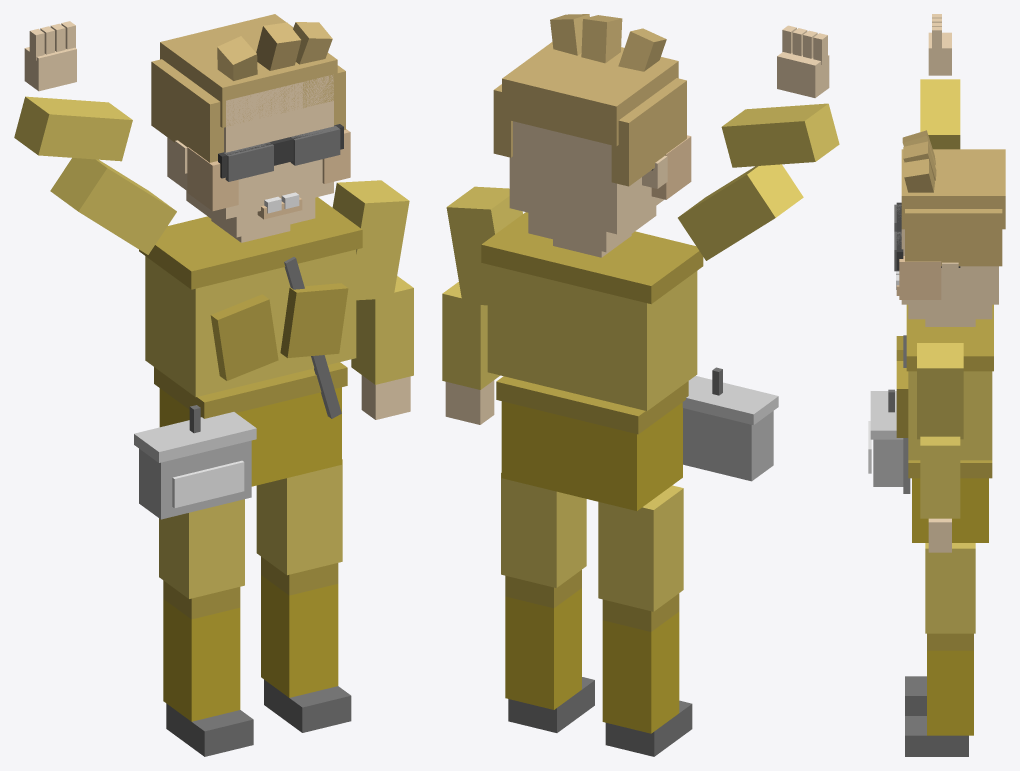
Rendered from asset.glb.
The picture shows the model from 3 angles, left to right: view 1: azimuth 30°, elevation 25°; view 2: azimuth 150°, elevation 25°; view 3: azimuth 270°, elevation 25°; orthographic projection. The views are drawn at different scales.
Visible parts, largest first — view 1: part_mat0, part_mat1, part_mat2, part_mat3, part_mat10, part_mat6, part_mat7, part_mat8, part_mat4, part_mat9, part_mat5; view 2: part_mat0, part_mat2, part_mat10, part_mat3, part_mat1, part_mat7, part_mat6, part_mat8, part_mat4; view 3: part_mat0, part_mat10, part_mat2, part_mat3, part_mat1, part_mat6, part_mat4, part_mat7, part_mat8, part_mat5, part_mat9.
Boxes of the visible parts, x1,y1,x2,y2 form: part_mat0: (14, 96, 413, 598); part_mat1: (139, 197, 362, 619); part_mat2: (159, 387, 341, 721); part_mat3: (24, 21, 410, 419); part_mat10: (151, 14, 345, 162); part_mat6: (166, 125, 351, 756); part_mat7: (139, 440, 251, 519); part_mat8: (134, 412, 256, 462); part_mat4: (187, 129, 350, 219); part_mat9: (172, 192, 299, 508); part_mat5: (218, 124, 343, 178); part_mat0: (442, 103, 839, 611); part_mat2: (501, 401, 682, 733); part_mat10: (493, 14, 686, 186); part_mat3: (445, 25, 829, 424); part_mat1: (481, 212, 703, 631); part_mat7: (683, 408, 773, 481); part_mat6: (508, 367, 722, 756); part_mat8: (682, 376, 778, 425); part_mat4: (651, 135, 691, 199); part_mat0: (908, 79, 992, 633); part_mat10: (901, 130, 1005, 266); part_mat2: (912, 478, 988, 735); part_mat3: (901, 14, 998, 552); part_mat1: (896, 304, 993, 650); part_mat6: (888, 204, 968, 756); part_mat4: (896, 256, 941, 299); part_mat7: (873, 439, 903, 486); part_mat8: (870, 391, 903, 439); part_mat5: (896, 202, 960, 270); part_mat9: (868, 271, 899, 473).
Size of the model in its own units: 2.16 by 4.09 by 0.82.
